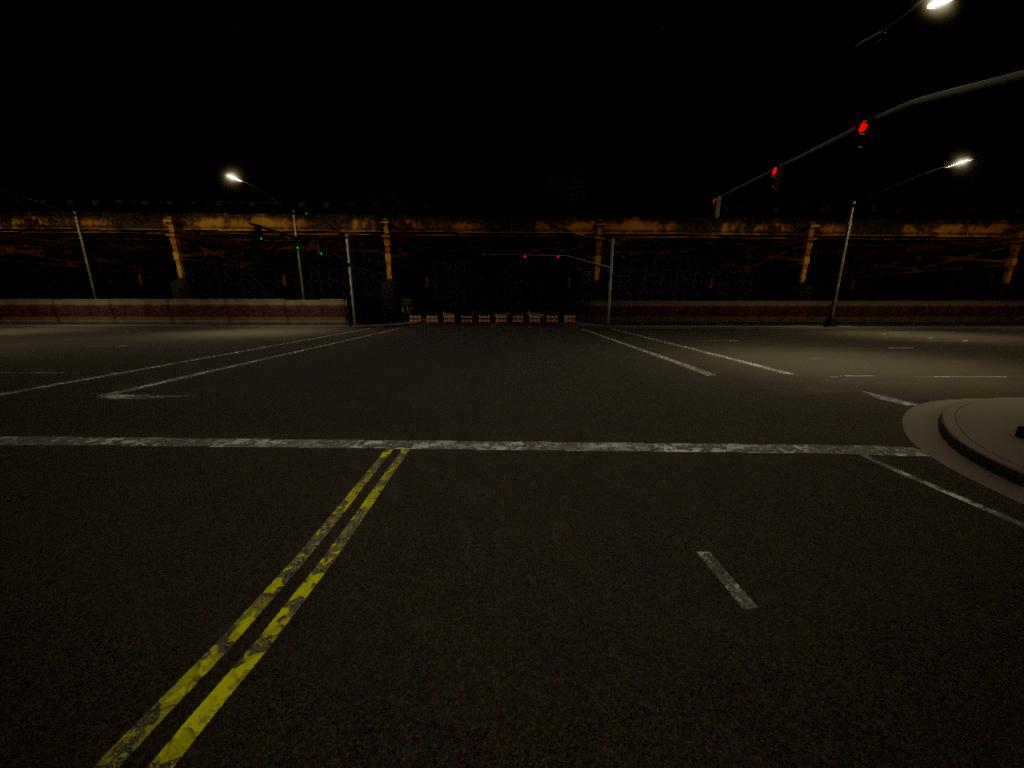traffic_light: (854, 118, 875, 165), (708, 196, 724, 220), (770, 166, 781, 197), (521, 254, 531, 264), (554, 254, 563, 265)
